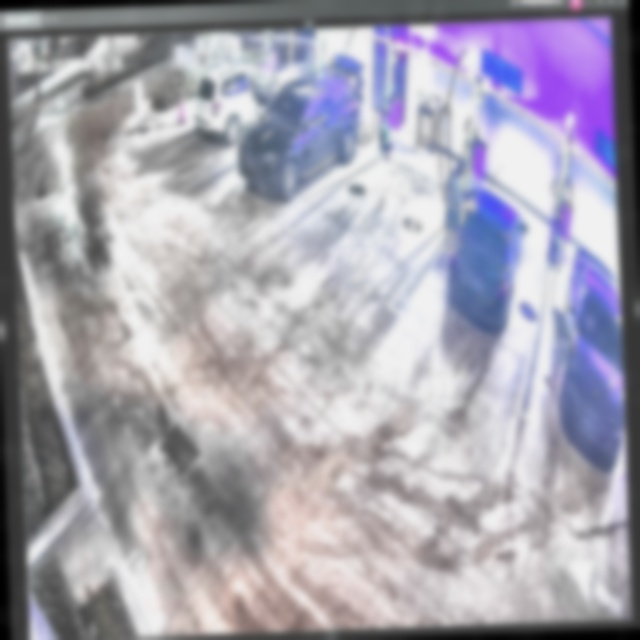Car: (233, 60, 367, 204), (445, 181, 532, 336), (191, 59, 289, 147)
